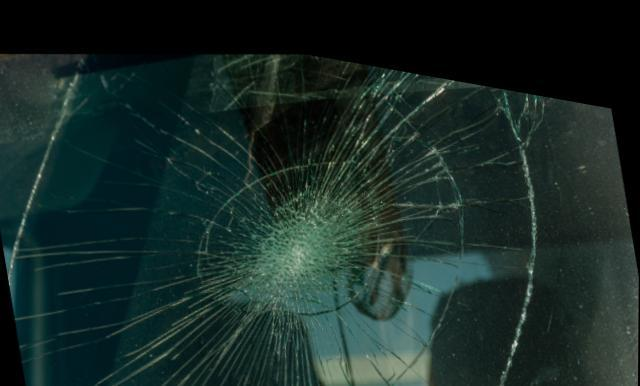glass shatter: (0, 43, 639, 386)
